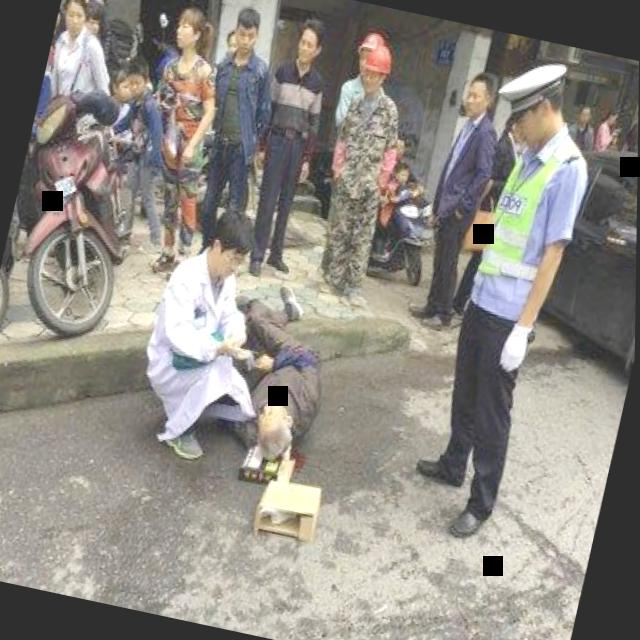Fall-Detected: (198, 263, 363, 490)
